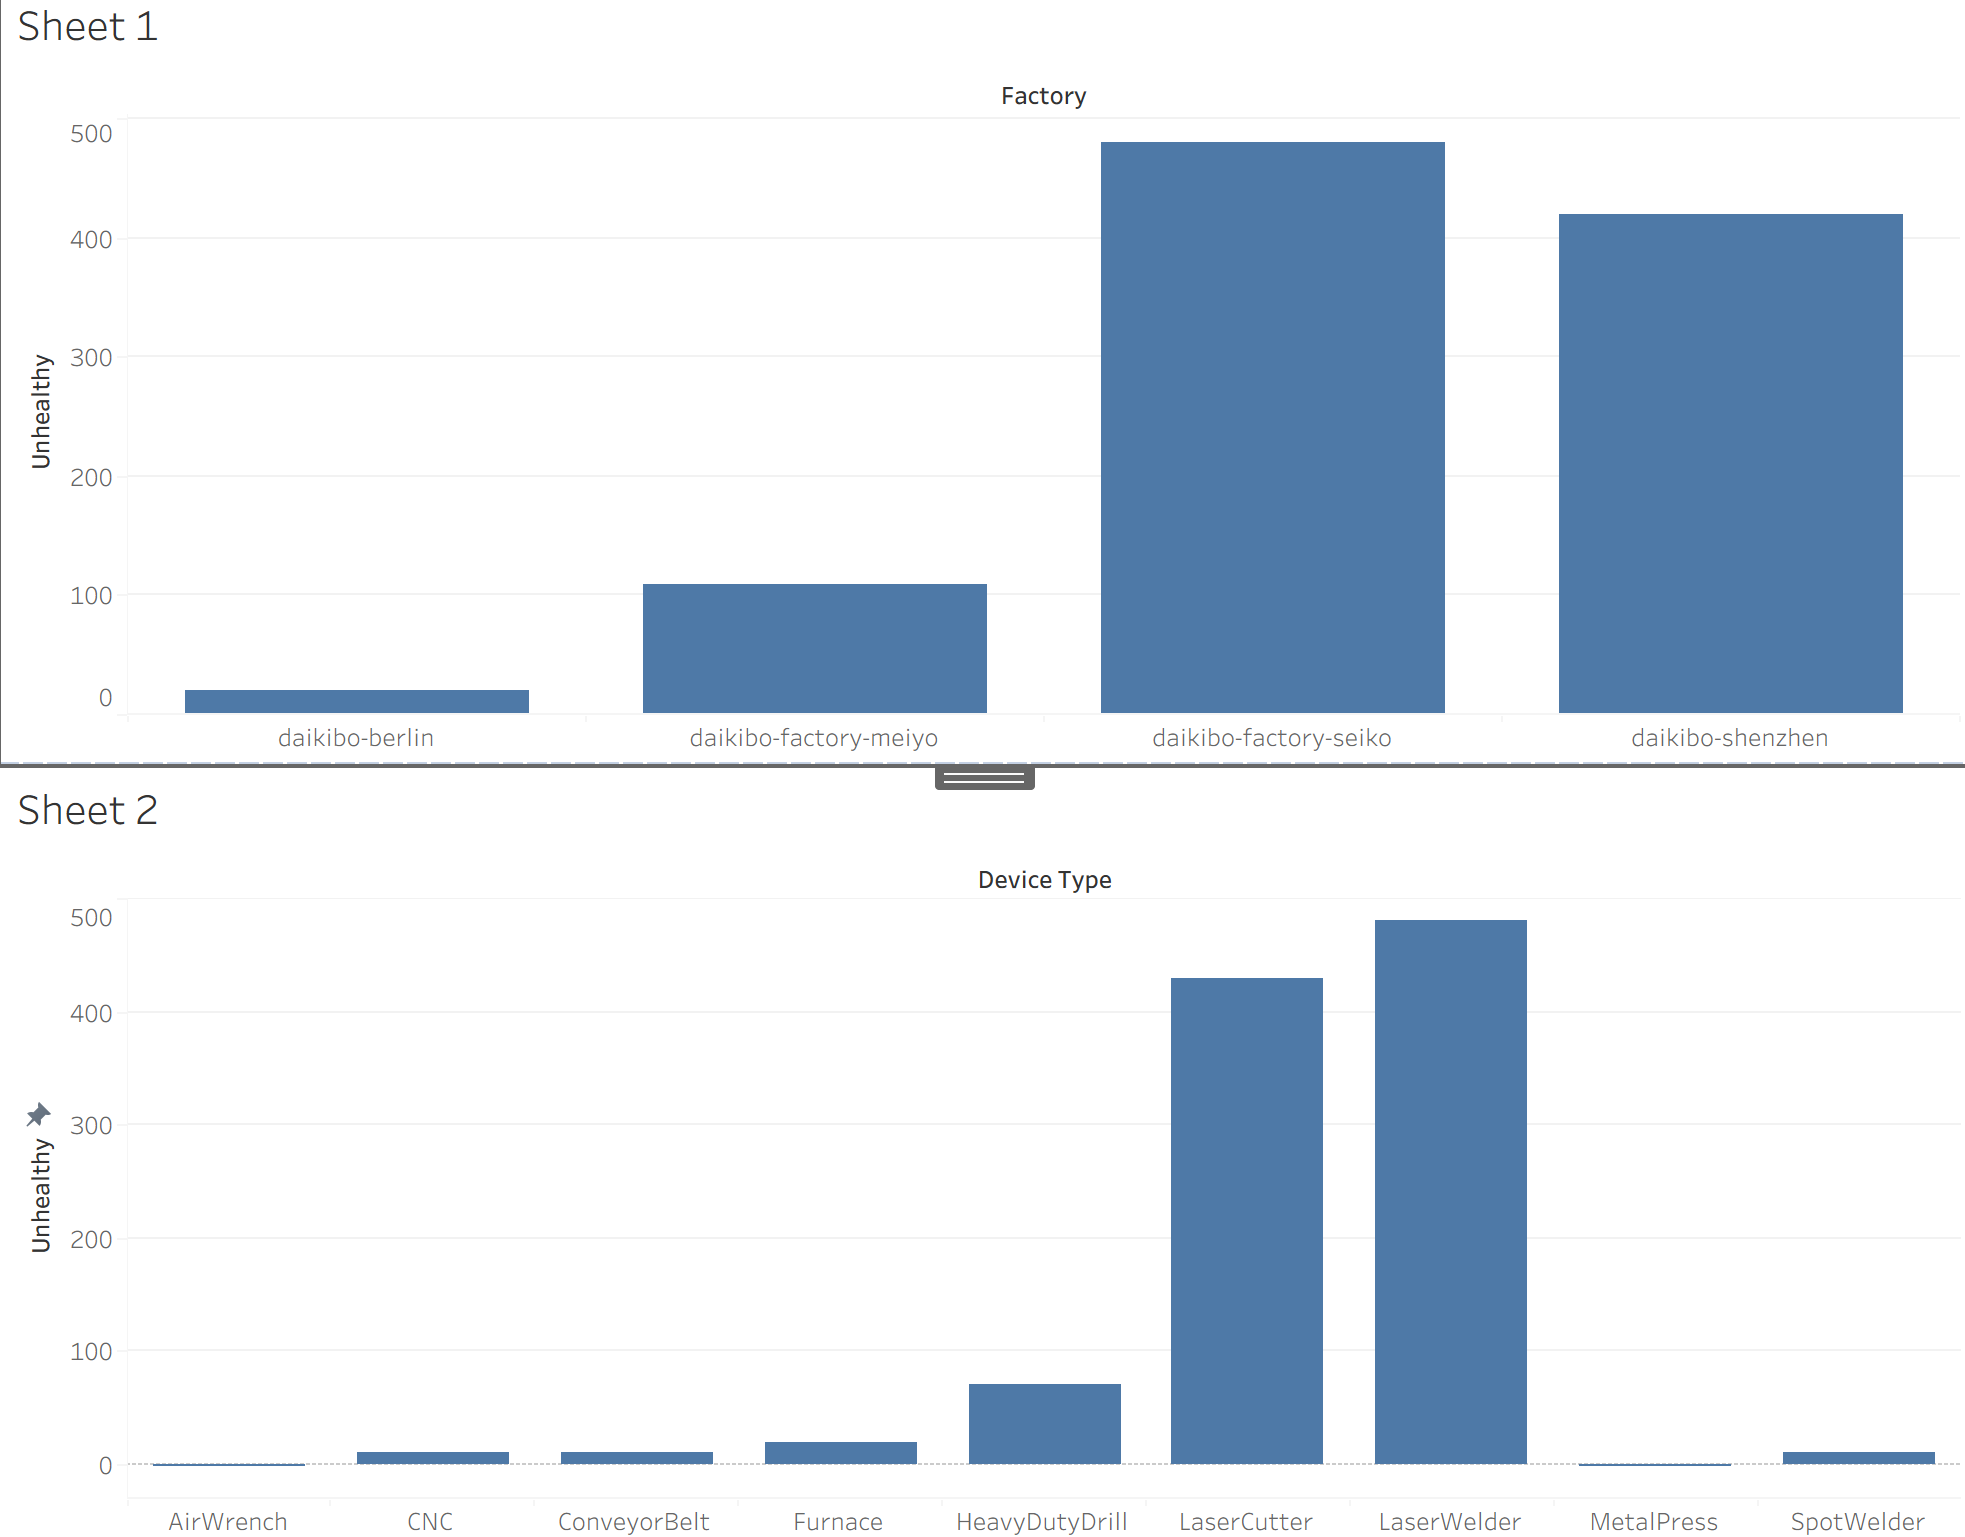

Layout of this report page (visuals, bound fields, positions):
{"tool":"tableau","page":{"name":"Dashboard 1","canvas":[1000,800],"ordinal":0},"visuals":[{"type":"worksheet","title":"Sheet 1","mark":"Automatic","rows":["Calculation_2116691852928086016"],"cols":["factory"],"box":[8,8,984,392]},{"type":"worksheet","title":"Sheet 2","mark":"Automatic","rows":["Calculation_2116691852928086016"],"cols":["deviceType"],"box":[8,400,984,392]}]}

Visuals, with their boxes in screenshot pixels (x1, y1, x2, y2), scaled from the page's 1000x800 canvas onto the 1965x1537 screenshot:
"Sheet 1" worksheet: (left=16, top=15, right=1949, bottom=768)
"Sheet 2" worksheet: (left=16, top=768, right=1949, bottom=1522)
